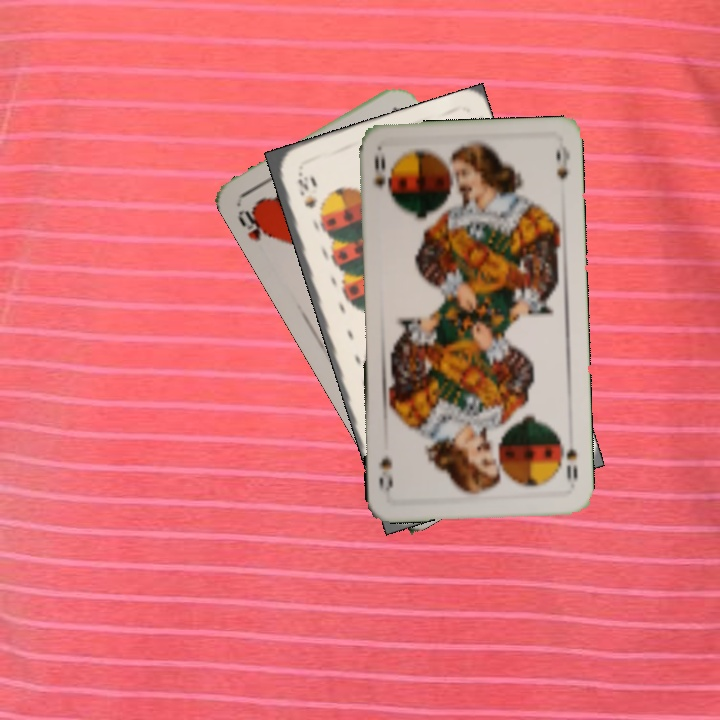HO: (233, 203, 273, 244)
S10: (293, 168, 317, 211)
SO: (557, 432, 580, 482), (370, 150, 388, 191)
